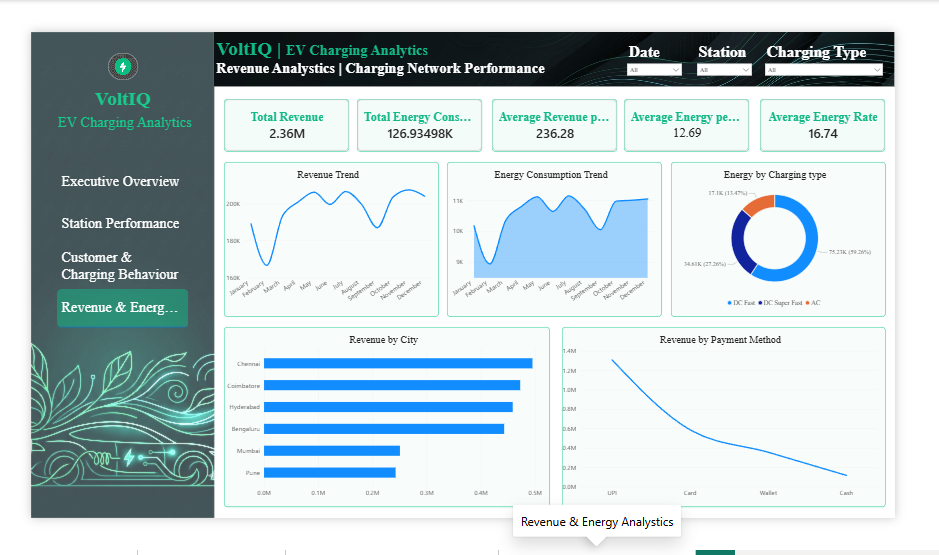

Layout of this report page (visuals, bound fields, positions):
{"tool":"powerbi","page":{"name":"Revenue & Energy Analystics","canvas":[1920,1080],"ordinal":3},"visuals":[{"type":"image","box":[407.1,0,1511.9,121.4],"z":0},{"type":"image","box":[0,0,407.5,1080],"z":1000},{"type":"image","box":[170,46.7,66.7,60],"z":2000},{"type":"textbox","box":[124,122,160,60],"z":3000},{"type":"textbox","box":[60,182,310,50],"z":4000},{"type":"pageNavigator","box":[56.7,287.8,292.2,368.9],"z":5000},{"type":"textbox","box":[407.1,2.4,757.1,119],"z":6000},{"type":"slicer","fields":{"Values":["Charging_Sessions.Station_ID"]},"box":[1476.2,23.8,131,76.2],"z":7000},{"type":"slicer","fields":{"Values":["Charging_Sessions.Charger_Type"]},"box":[1626.2,23.8,271.4,76.2],"z":8000},{"type":"slicer","fields":{"Values":["DateTable.Date","DateTable.Date.Variation.Date Hierarchy.Year","DateTable.Date.Variation.Date Hierarchy.Quarter","DateTable.Date.Variation.Date Hierarchy.Month","DateTable.Date.Variation.Date Hierarchy.Day"]},"box":[1319,23.8,131,76.2],"z":9000},{"type":"cardVisual","fields":{"Data":["Charging_Sessions.Total Revenue"]},"box":[428.3,148.3,278.3,116.7],"z":10000},{"type":"cardVisual","fields":{"Data":["Charging_Sessions.Total Energy Consumed"]},"box":[725,148.3,278.3,116.7],"z":11000},{"type":"cardVisual","fields":{"Data":["Charging_Sessions.Average Revenue per Session"]},"box":[1023.3,148.3,278.3,116.7],"z":12000},{"type":"cardVisual","fields":{"Data":["Charging_Sessions.Average Energy per Session"]},"box":[1318.3,148.3,278.3,116.7],"z":13000},{"type":"cardVisual","fields":{"Data":["Charging_Sessions.Average Energy Rate"]},"box":[1620,148.3,278.3,116.7],"z":14000},{"type":"lineChart","title":"Revenue Trend","fields":{"Category":["DateTable.Month Name"],"Y":["Sum(Charging_Sessions.Revenue)"]},"box":[428.8,289.1,477,344.5],"z":15000},{"type":"areaChart","title":"Energy Consumption Trend","fields":{"Category":["DateTable.Month Name"],"Y":["Sum(Charging_Sessions.Energy_Consumed_kWh)"]},"box":[925.1,289.1,477,344.5],"z":16000},{"type":"donutChart","title":"Energy by Charging type","fields":{"Category":["Charging_Sessions.Charger_Type"],"Y":["Charging_Sessions.Total Energy Consumed"]},"box":[1421.3,289.1,477,344.5],"z":17000},{"type":"barChart","title":"Revenue by City","fields":{"Category":["Stations.City"],"Y":["Sum(Charging_Sessions.Revenue)"]},"box":[428.6,655.7,724.3,400],"z":18000},{"type":"lineChart","title":"Revenue by Payment Method","fields":{"Category":["Charging_Sessions.Payment_Method"],"Y":["Sum(Charging_Sessions.Revenue)"]},"box":[1180,655.7,718.6,400],"z":19000}]}

Visuals, with their boxes on the page's 1920x1080 design canvas (x1, y1, x2, y2). These are canvas units, not pixel positions in the 939x555 screenshot, which may show the page scaled, cropped or inside an application window:
image: [407, 0, 1919, 121]
image: [0, 0, 408, 1080]
image: [170, 47, 237, 107]
textbox: [124, 122, 284, 182]
textbox: [60, 182, 370, 232]
pageNavigator: [57, 288, 349, 657]
textbox: [407, 2, 1164, 121]
slicer - Charging_Sessions.Station_ID: [1476, 24, 1607, 100]
slicer - Charging_Sessions.Charger_Type: [1626, 24, 1898, 100]
slicer - DateTable.Date x DateTable.Date.Variation.Date Hierarchy.Year: [1319, 24, 1450, 100]
cardVisual - Charging_Sessions.Total Revenue: [428, 148, 707, 265]
cardVisual - Charging_Sessions.Total Energy Consumed: [725, 148, 1003, 265]
cardVisual - Charging_Sessions.Average Revenue per Session: [1023, 148, 1302, 265]
cardVisual - Charging_Sessions.Average Energy per Session: [1318, 148, 1597, 265]
cardVisual - Charging_Sessions.Average Energy Rate: [1620, 148, 1898, 265]
"Revenue Trend" lineChart: [429, 289, 906, 634]
"Energy Consumption Trend" areaChart: [925, 289, 1402, 634]
"Energy by Charging type" donutChart: [1421, 289, 1898, 634]
"Revenue by City" barChart: [429, 656, 1153, 1056]
"Revenue by Payment Method" lineChart: [1180, 656, 1899, 1056]
